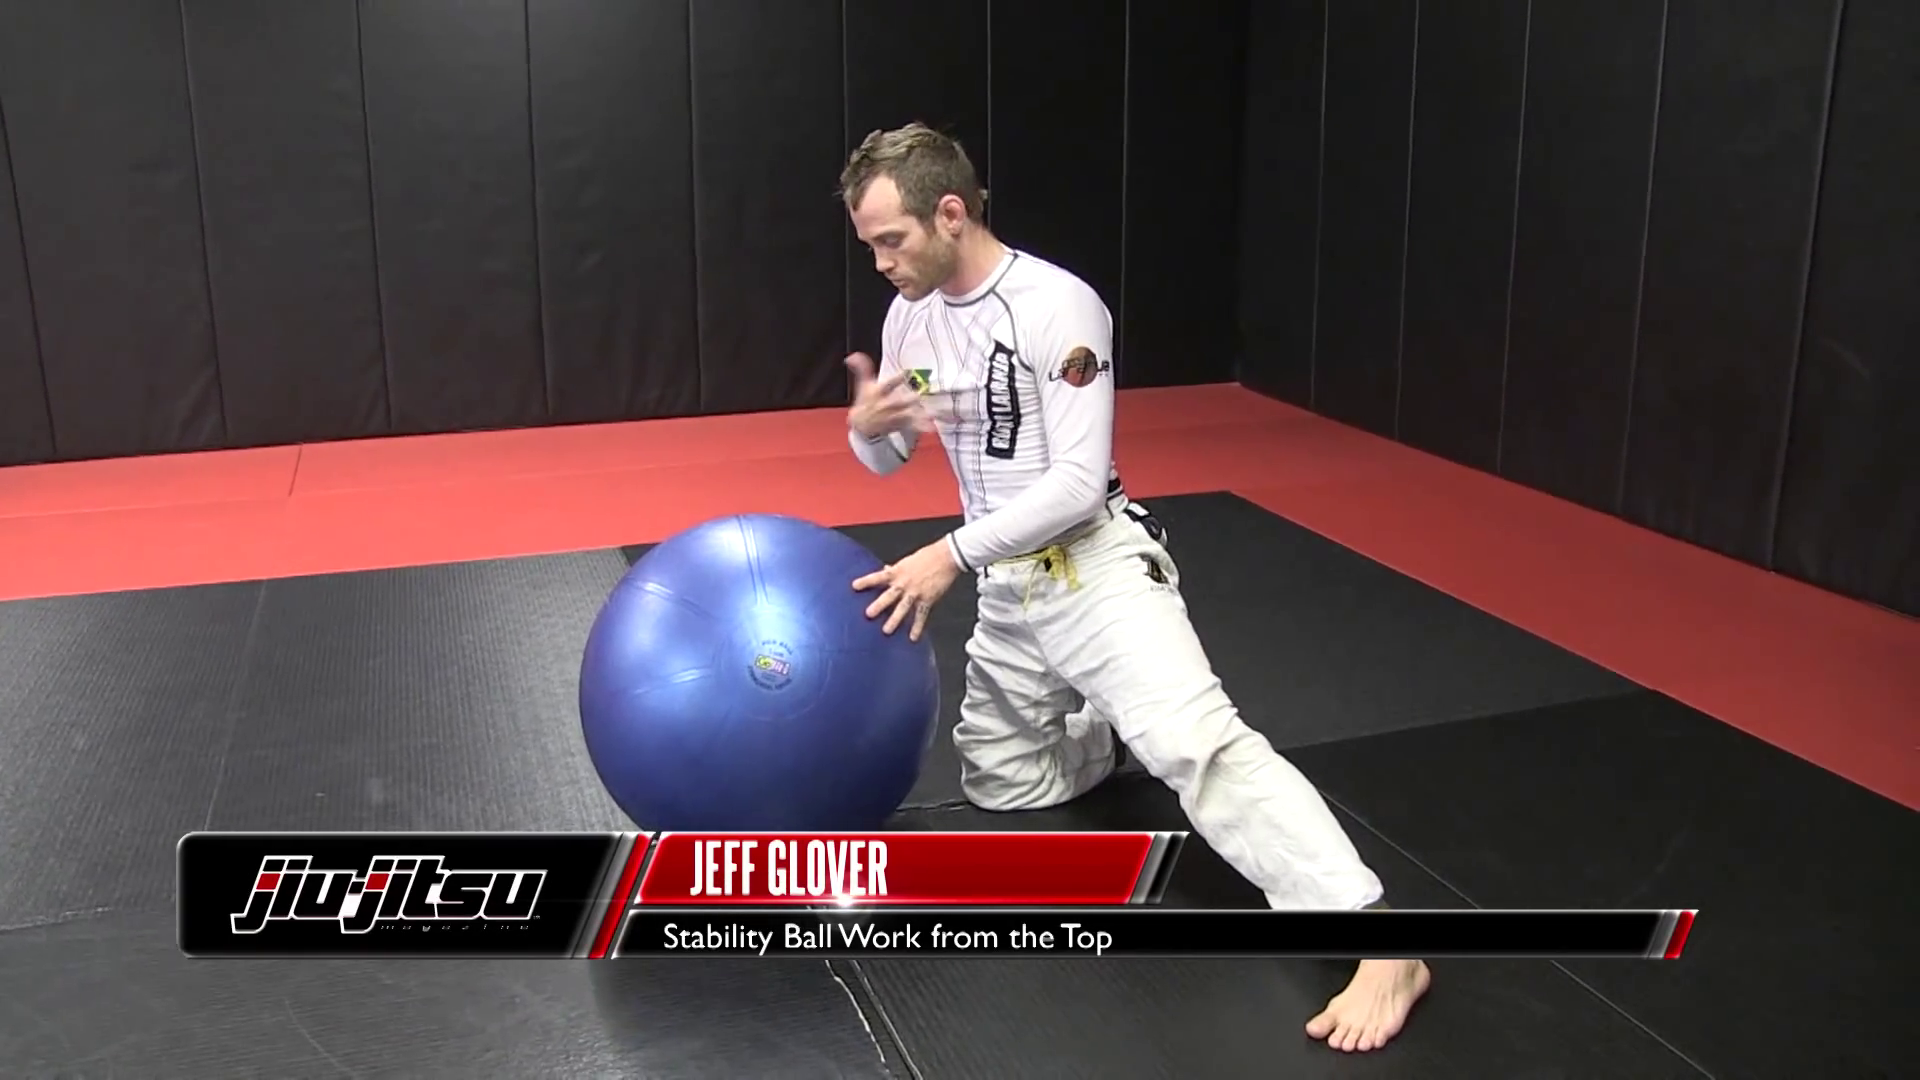yogaball: (568, 505, 945, 876)
